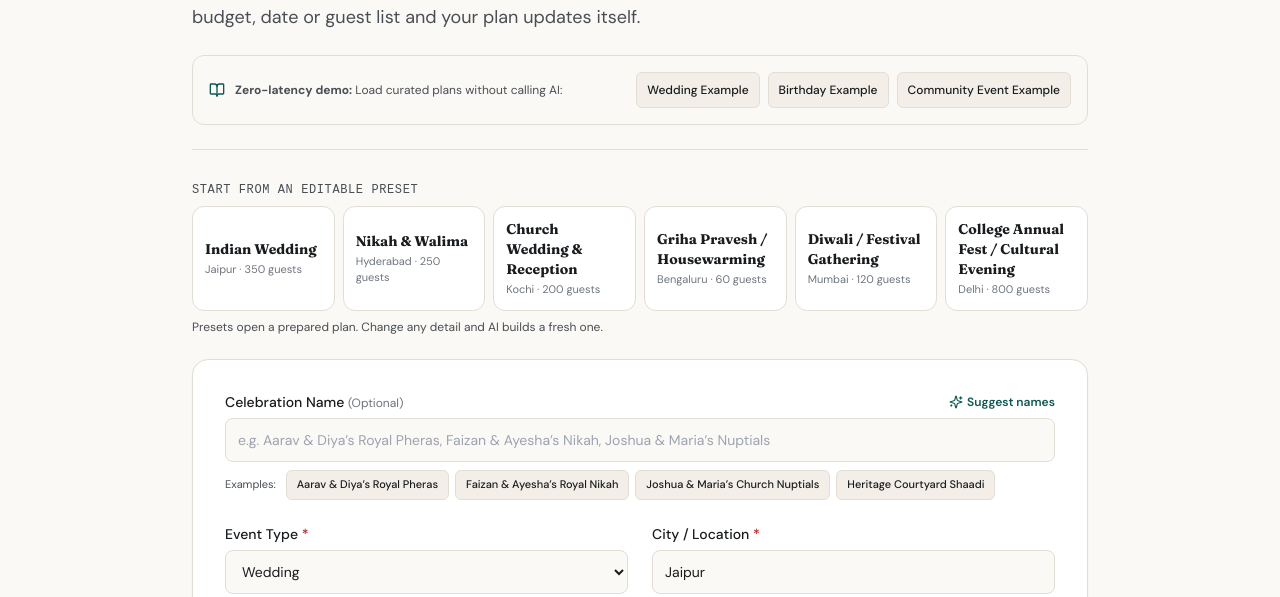
Test case: IntakeForm Idea Chips & Muhurat Timing › renders all six presets and loads Nikah & Walima and Church Wedding properly
Click the button "Nikah & Walima Hyderabad · 250 guests": (414, 258) 343,206 -> 485,310
(page scrolled)
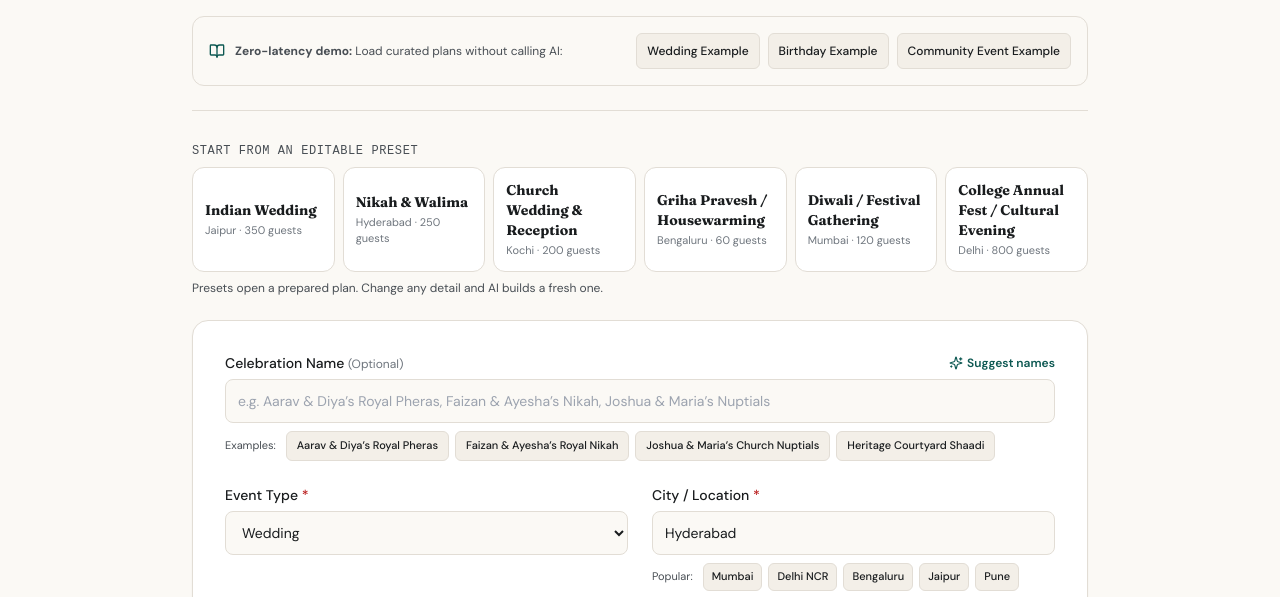
Check: the field labelled "City / Location *" holds "Hyderabad", box 652,510 -> 1055,554
Click the button "Church Wedding & Reception Kochi · 200 guests": (565, 219) 493,167 -> 636,272
(page scrolled)
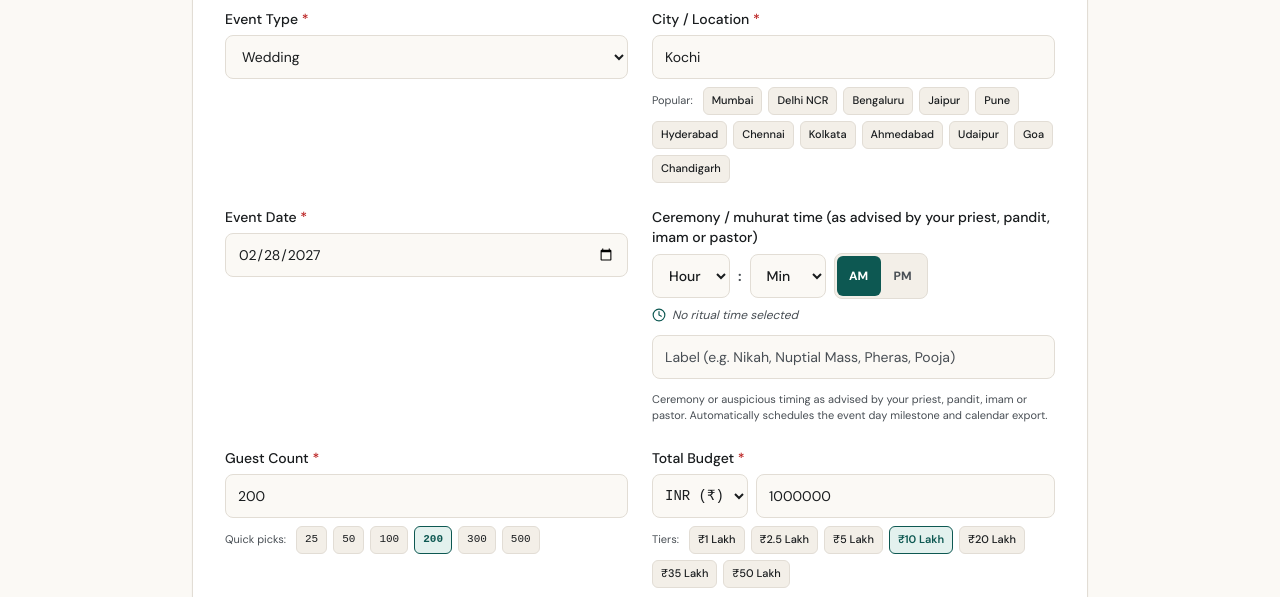
Check: the field labelled "City / Location *" holds "Kochi", box 652,34 -> 1055,78
Check: the number field labelled "Guest Count *" holds "200", box 225,474 -> 628,518
Check: the number field labelled "Total Budget *" holds "1000000", box 756,474 -> 1055,518
